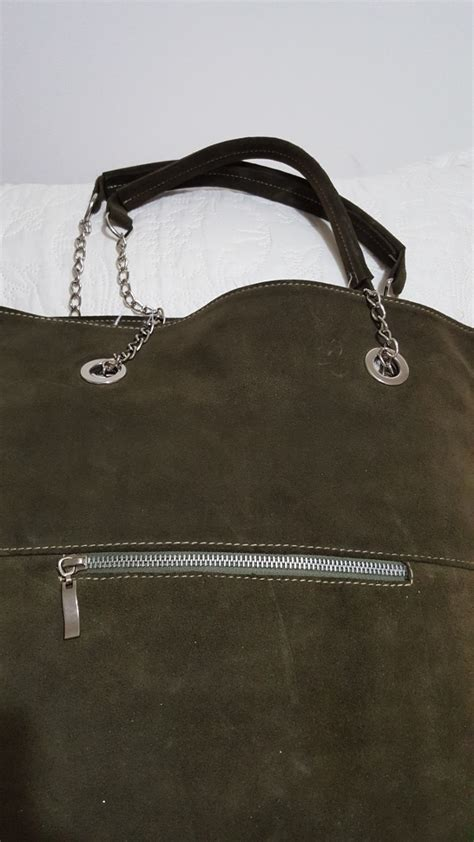gamuza: (1, 279, 474, 842)
